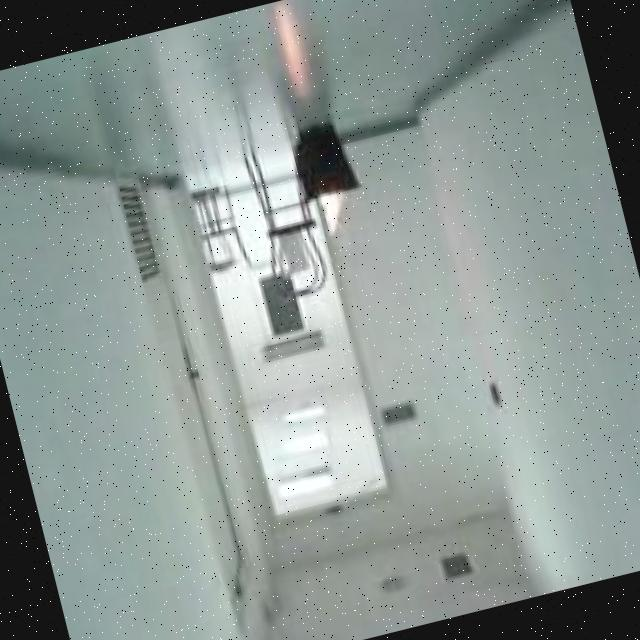fire: (313, 192, 355, 235)
